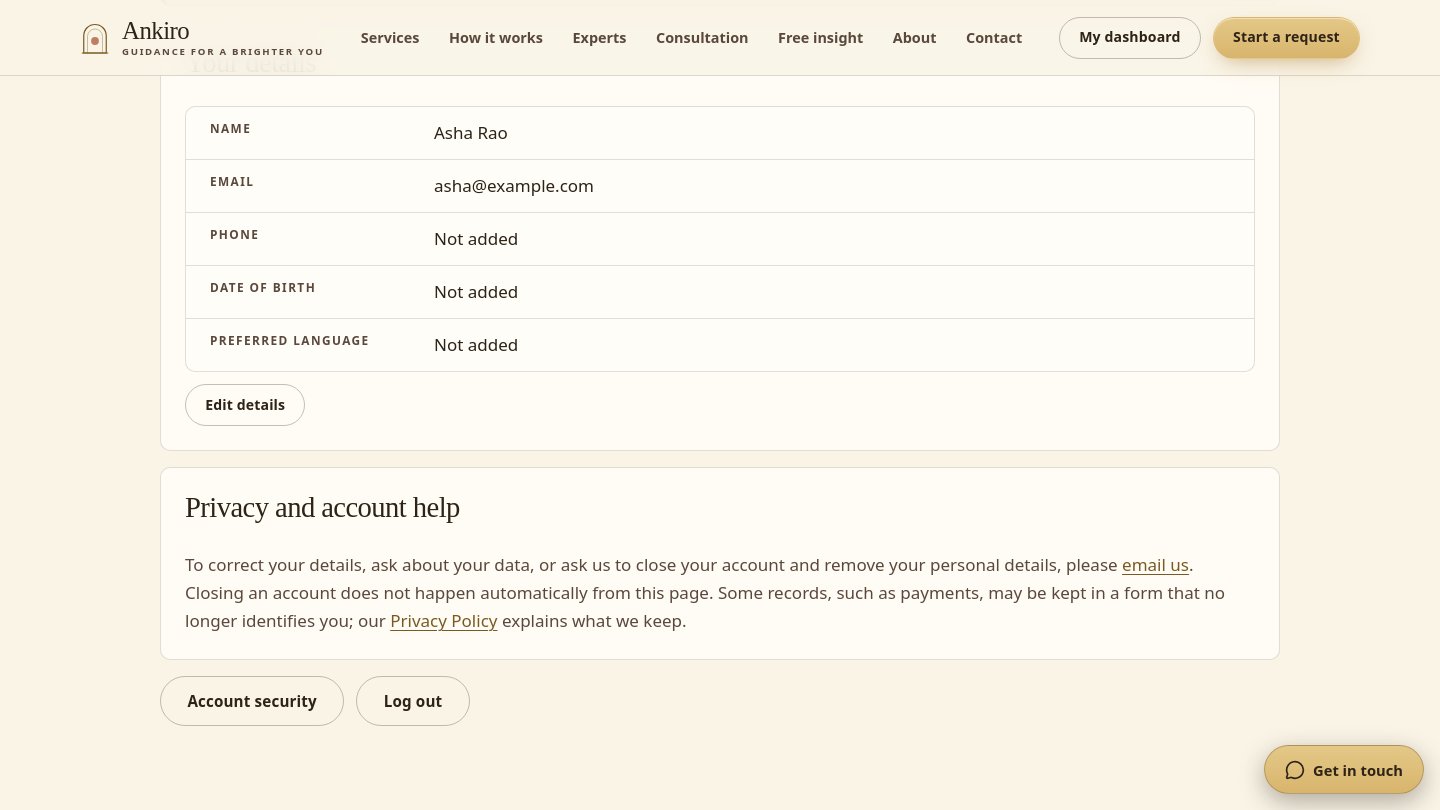
Test: customer dashboard and data isolation › edits the profile through the allowed fields
(page scrolled)
Click the button "Edit details" at (245, 405), box [185, 384, 305, 426]
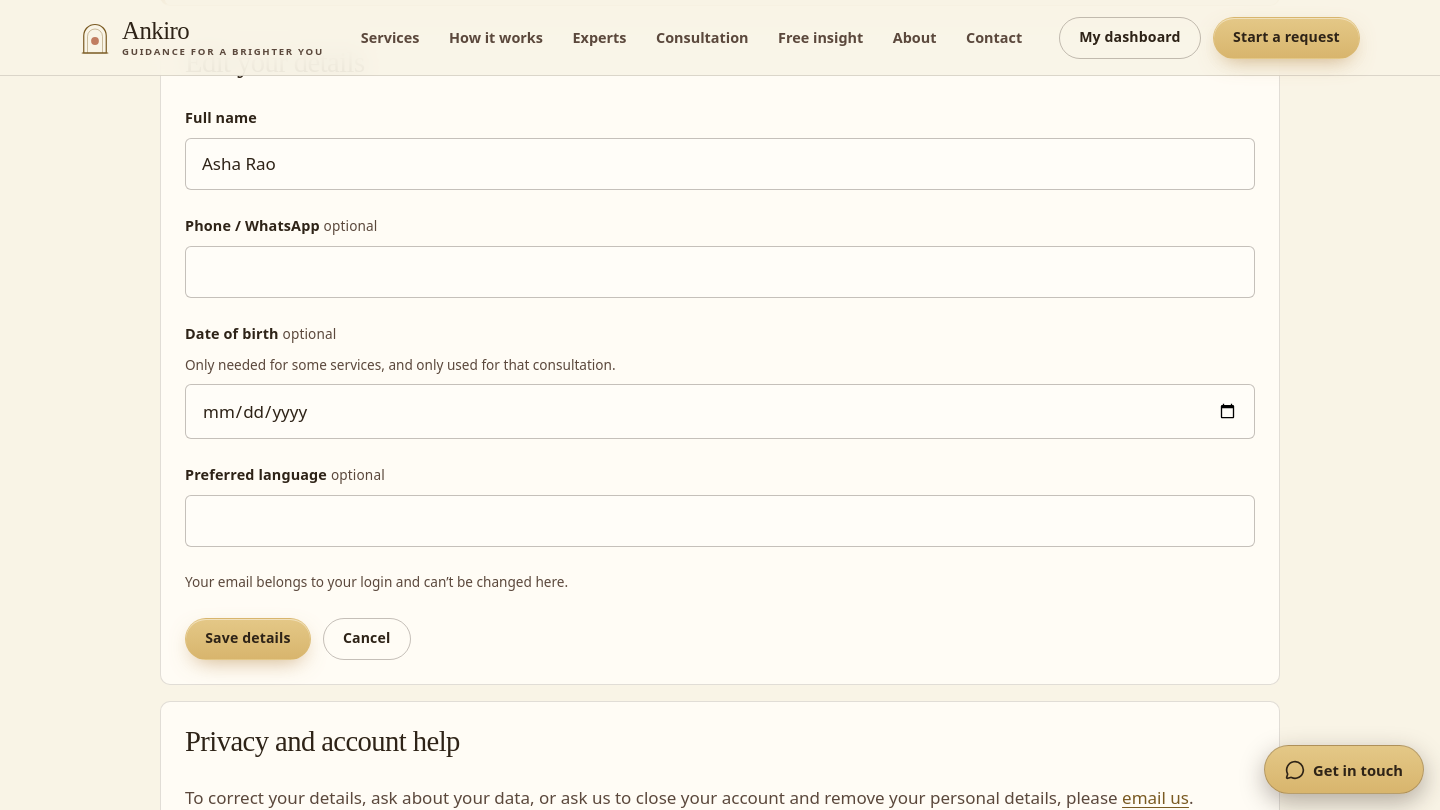
Replace the text in the field labelled "Full name" with "Asha R. Rao" at (720, 164), box [185, 138, 1255, 190]
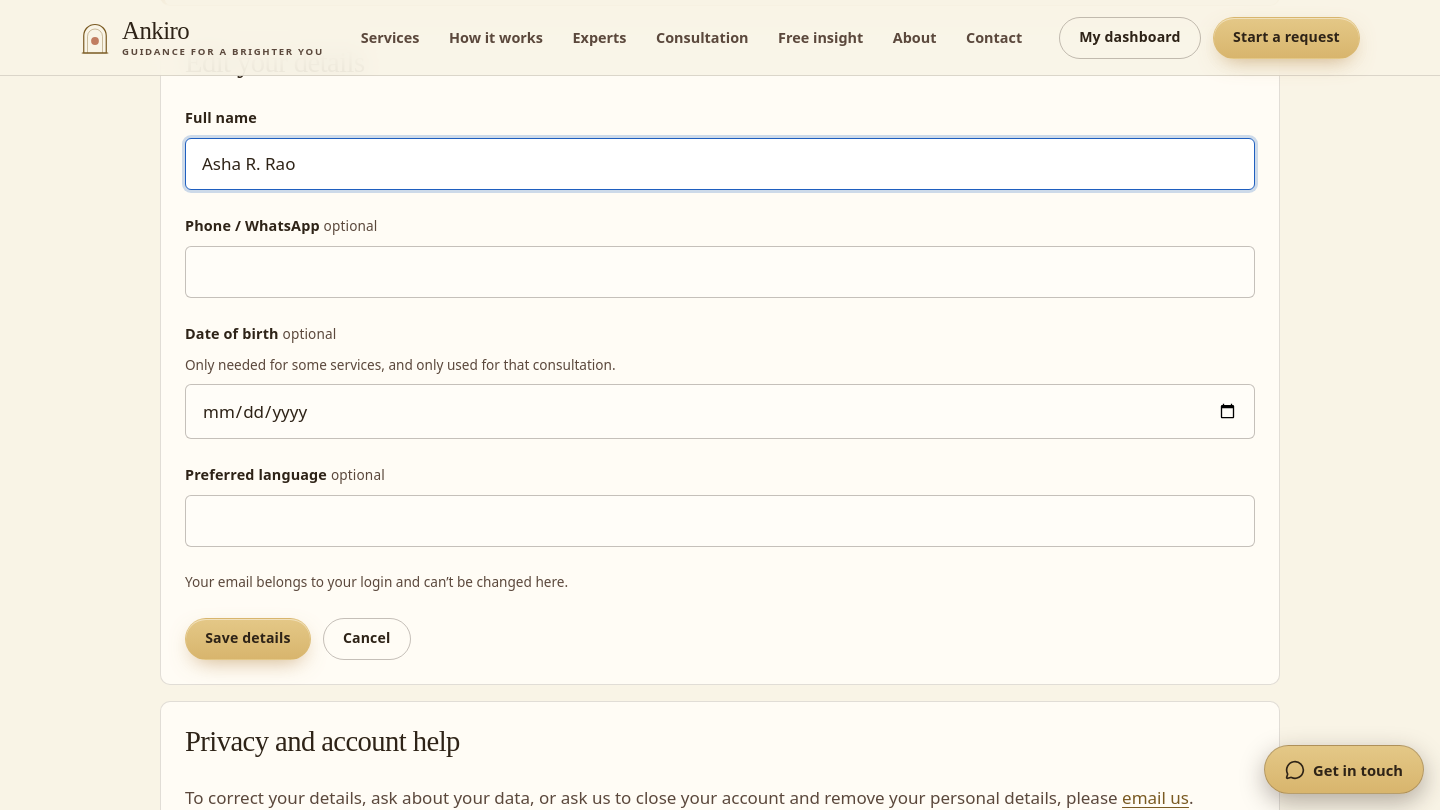
Type "+91 98765 43210" into the field labelled "Phone / WhatsApp optional" at (720, 272), box [185, 246, 1255, 298]
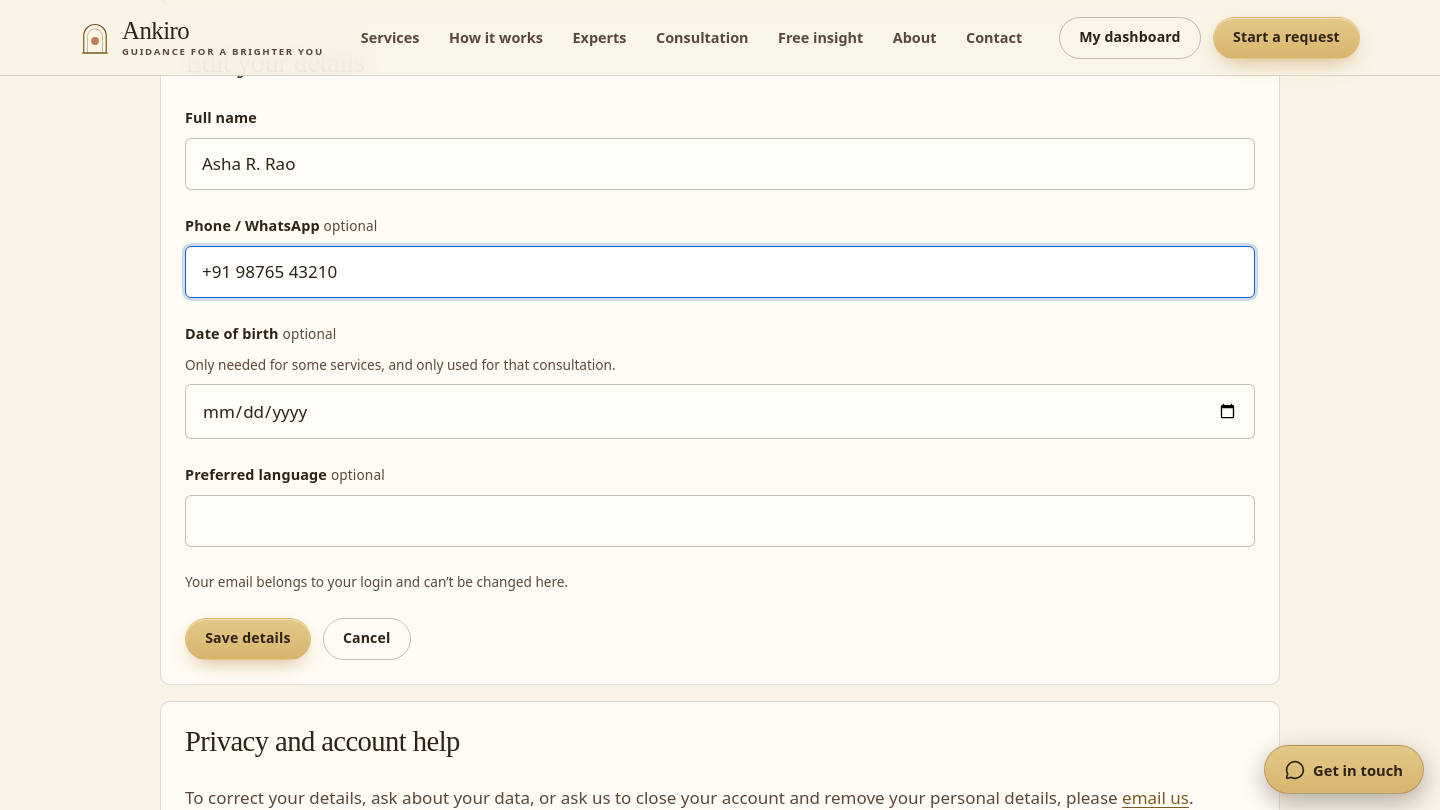
Click the button "Save details" at (248, 638), box [185, 618, 311, 660]
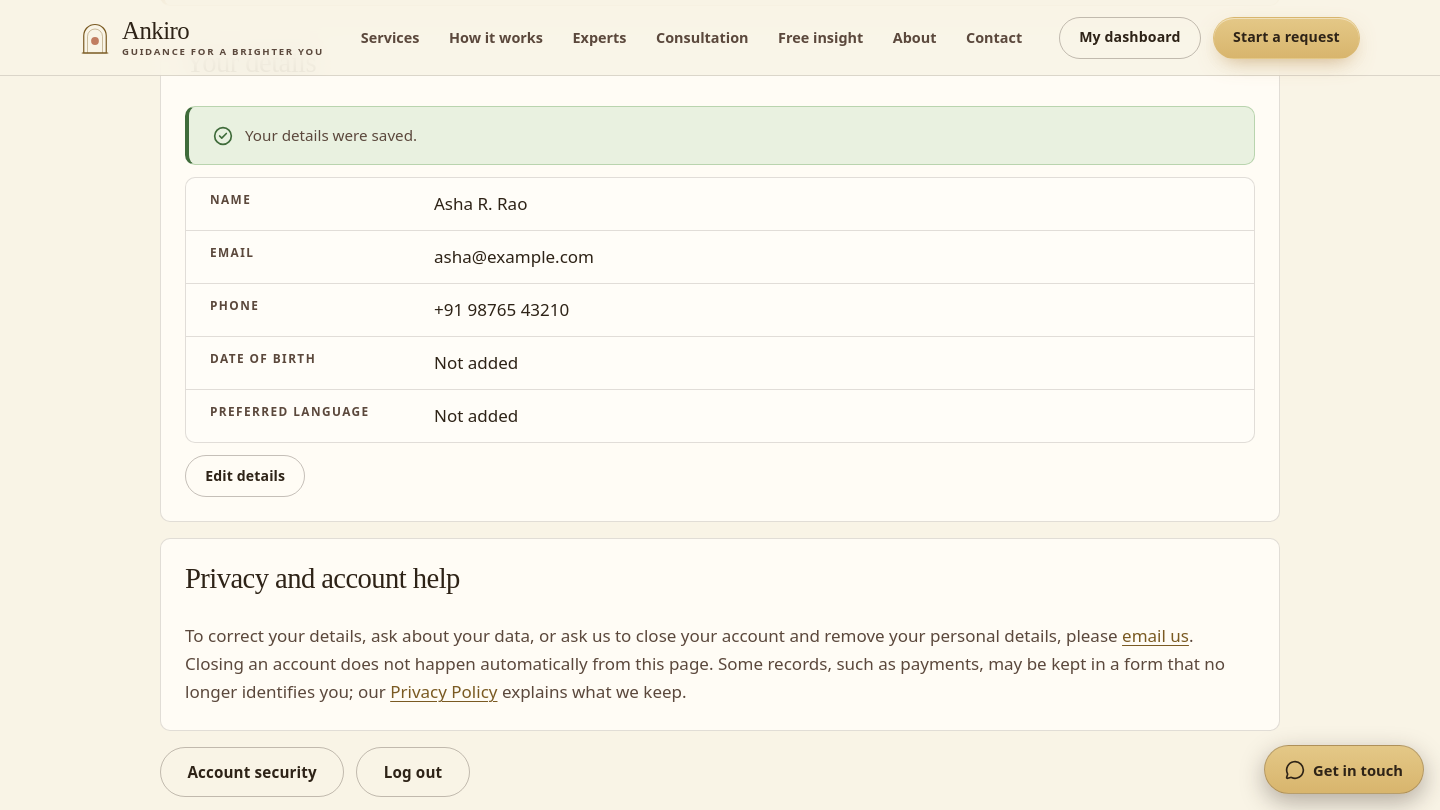
Check: the text "Your details were saved." is shown, box [245, 123, 417, 148]
